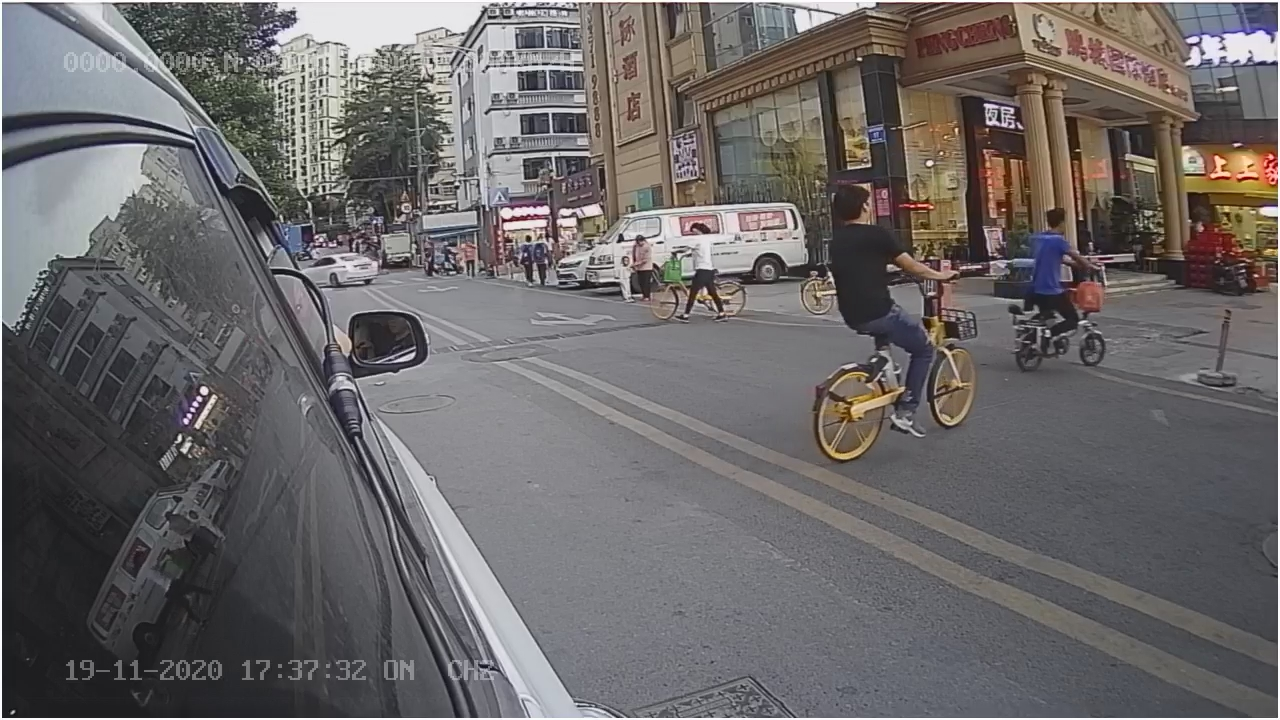person: (819, 183, 931, 345)
